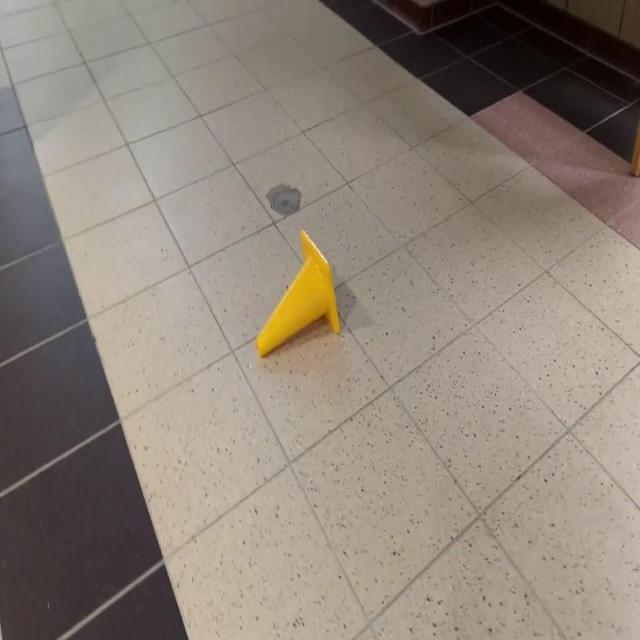frc_cone: (254, 227, 342, 357)
